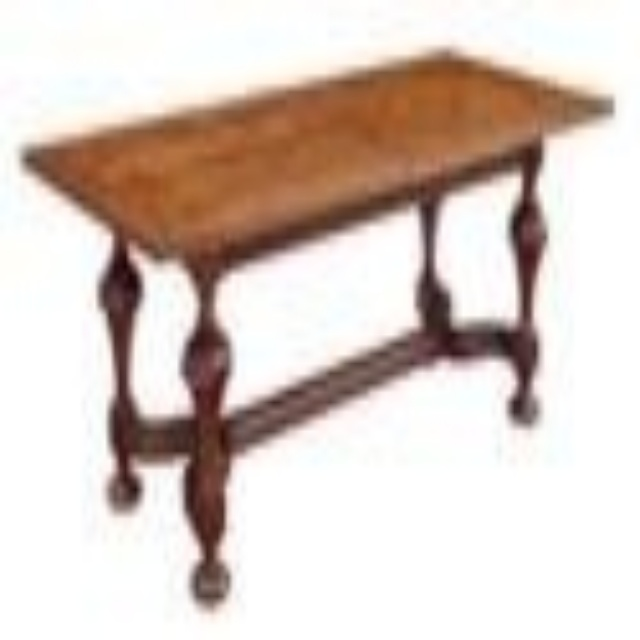obstacle: (26, 48, 609, 592)
